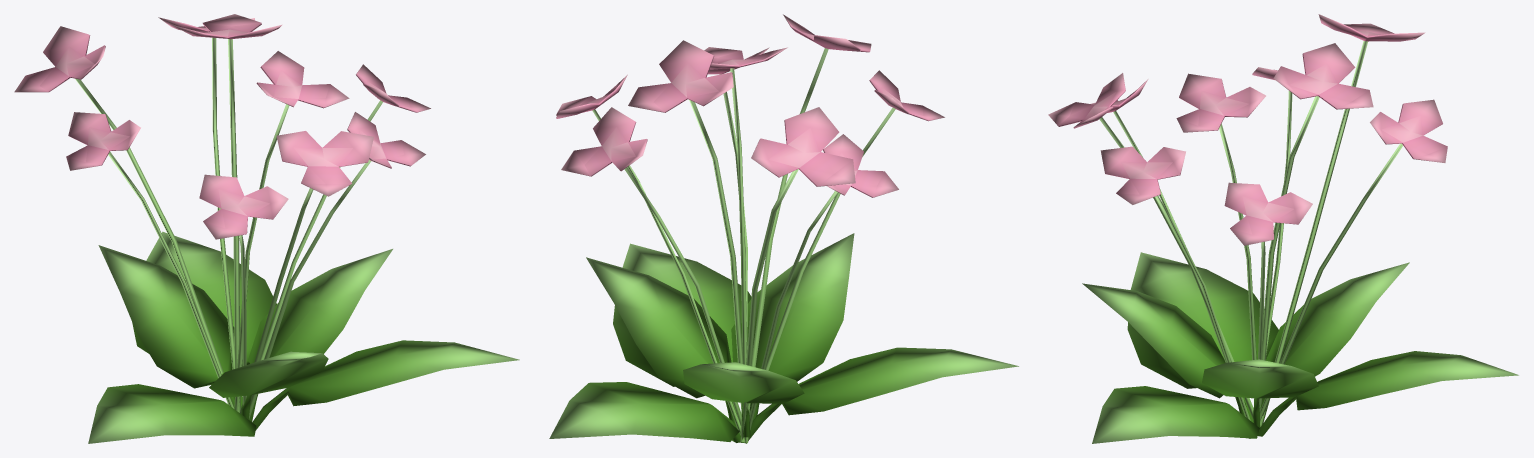
3 renders of one model, left to right at view 1: azimuth 30°, elevation 25°; view 2: azimuth 150°, elevation 25°; view 3: azimuth 270°, elevation 25°, orthographic. The views are drawn at different scales.
Parts seen in each view (by area): view 1: fp15; view 2: fp15; view 3: fp15.
Boxes of the visible parts, x1,y1,x2,y2 form: fp15: (14,14,519,443); fp15: (549,14,1018,443); fp15: (1048,14,1518,443).
Bounding box in the file's own units: 103 × 94.54 × 106.
